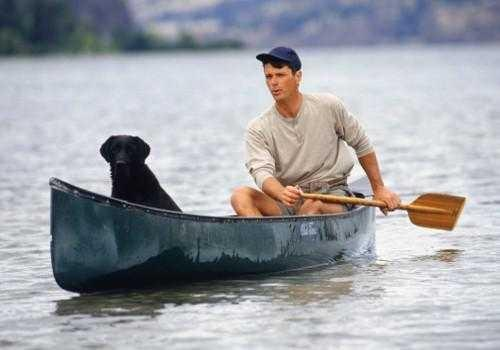kayak: (49, 179, 379, 296)
